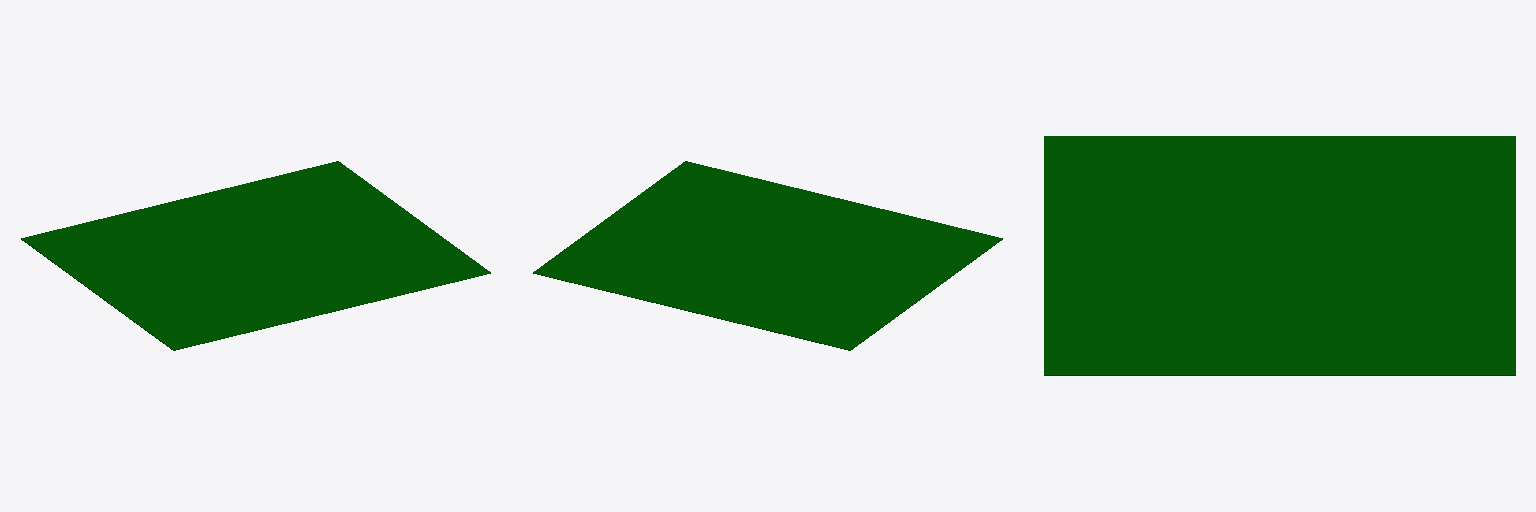
robot.urdf — ground.SLDPRT:
<?xml version="1.0" encoding="utf-8"?>
<!-- This URDF was automatically created by SolidWorks to URDF Exporter! Originally created by Stephen Brawner ([email redacted]) 
     Commit Version: 1.5.1-0-g916b5db  Build Version: 1.5.7152.31018
     For more information, please see http://wiki.ros.org/sw_urdf_exporter -->
<robot
  name="ground.SLDPRT">
  <link
    name="ground.SLDPRT">
    <inertial>
      <origin
        xyz="2.1279E-16 -1.29611545234633E-17 0.0015"
        rpy="0 0 0" />
      <mass
        value="8.1" />
      <inertia
        ixx="1.5188"
        ixy="-1.1685E-16"
        ixz="-7.15672182220724E-33"
        iyy="2.187"
        iyz="9.29966065092713E-17"
        izz="3.7058" />
    </inertial>
    <visual>
      <origin
        xyz="0 0 0"
        rpy="1.5707963267949 0 0" />
      <geometry>
        <mesh
          filename="package://ground.SLDPRT/meshes/ground.SLDPRT.STL" />
      </geometry>
      <material
        name="">
        <color
          rgba="0.02 0.39 0.02 1.0" />
        <texture
          filename="package://ground.SLDPRT/textures/" />
      </material>
    </visual>
    <collision>
      <origin
        xyz="0 0 0"
        rpy="1.5707963267949 0 0" />
      <geometry>
        <mesh
          filename="package://ground.SLDPRT/meshes/ground.SLDPRT.STL" />
      </geometry>
    </collision>
  </link>
</robot>

--- Facts derived from the render (not from the file) ---
3 views of the same robot in one strip: view 1: azimuth 30°, elevation 25°; view 2: azimuth 150°, elevation 25°; view 3: azimuth 270°, elevation 25° (orthographic).
Robot: ground.SLDPRT — 1 links, 0 joints (none); root link ground.SLDPRT; default pose: every joint at zero.
Links seen in each view (by area): view 1: ground.SLDPRT; view 2: ground.SLDPRT; view 3: ground.SLDPRT.
Link boxes in pixels (x1,y1,x2,y2): ground.SLDPRT: [21, 161, 490, 350]; ground.SLDPRT: [533, 161, 1002, 350]; ground.SLDPRT: [1044, 136, 1515, 375].
Bounding box of the posed robot: 1.8 × 1.5 × 0.003 m (x, y, z).
1 mesh visuals loaded from 1 distinct referenced files (1 binary STL).
